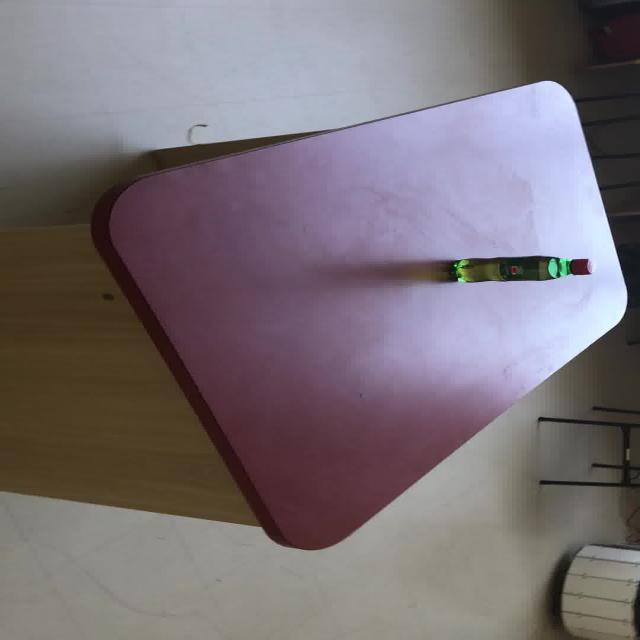guarana: (447, 254, 592, 283)
